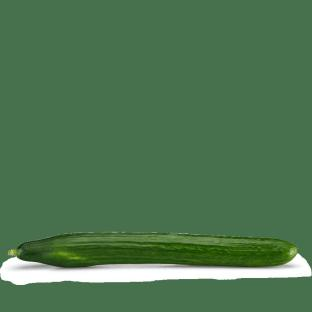Cucumber: (9, 233, 297, 266)
